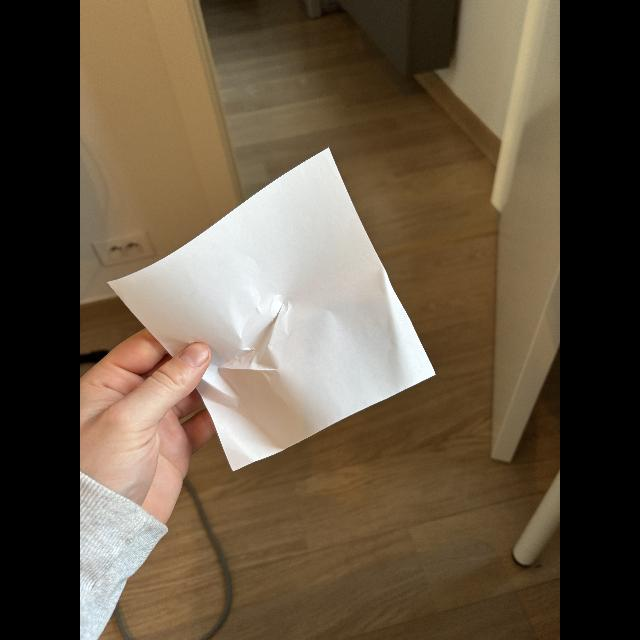Paper: (111, 142, 439, 474)
